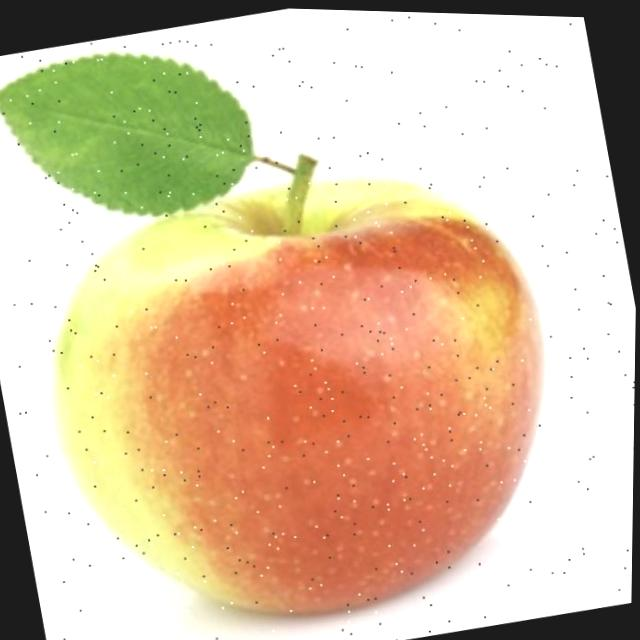Apple: (10, 109, 592, 640)
